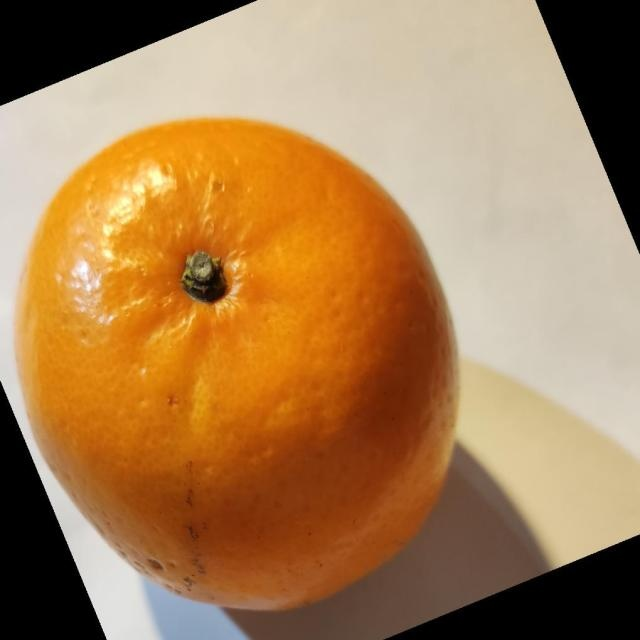agrume: (13, 115, 461, 612)
